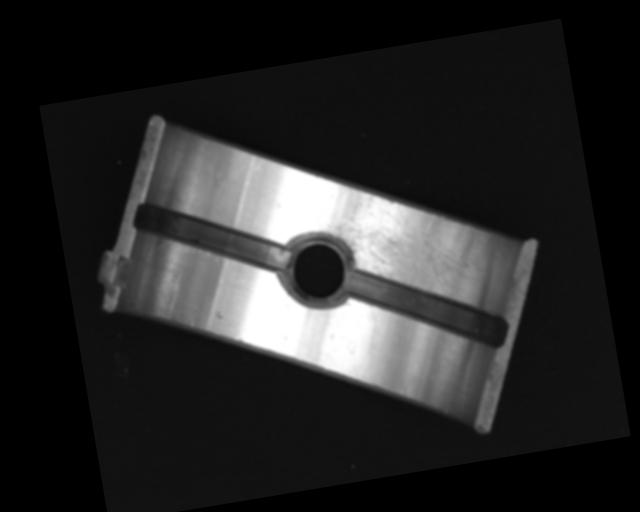bruise: (214, 309, 225, 320)
gap: (347, 249, 507, 369), (133, 181, 291, 292)
hole: (279, 227, 356, 312)
nick: (159, 272, 188, 318)
scratch: (318, 171, 480, 320)
